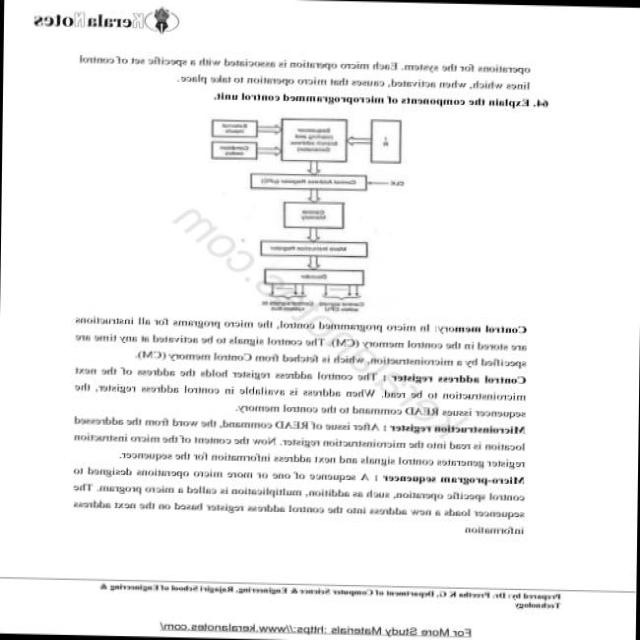Figure Detection - v3 Dataset Version2: (182, 105, 423, 316)
